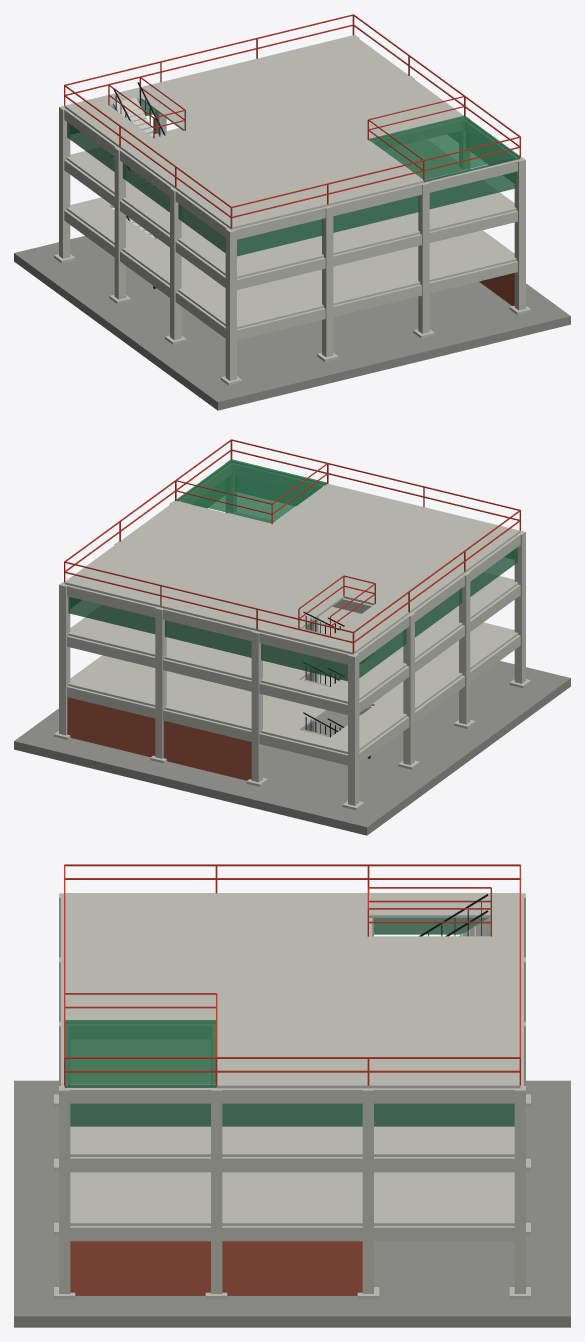
File: building_frame.glb
3 views of the same model, one above another, from view 1: azimuth 30°, elevation 25°; view 2: azimuth 150°, elevation 25°; view 3: azimuth 270°, elevation 25° (orthographic). The views are drawn at different scales.
Parts seen in each view (by area): view 1: BuildingFrame; view 2: BuildingFrame; view 3: BuildingFrame.
Boxes of the visible parts, x1=… form: BuildingFrame: x1=14, y1=14, x2=570, y2=410; BuildingFrame: x1=14, y1=439, x2=570, y2=835; BuildingFrame: x1=14, y1=864, x2=570, y2=1327.
Bounding box in the file's own units: 22 × 10.85 × 22.
